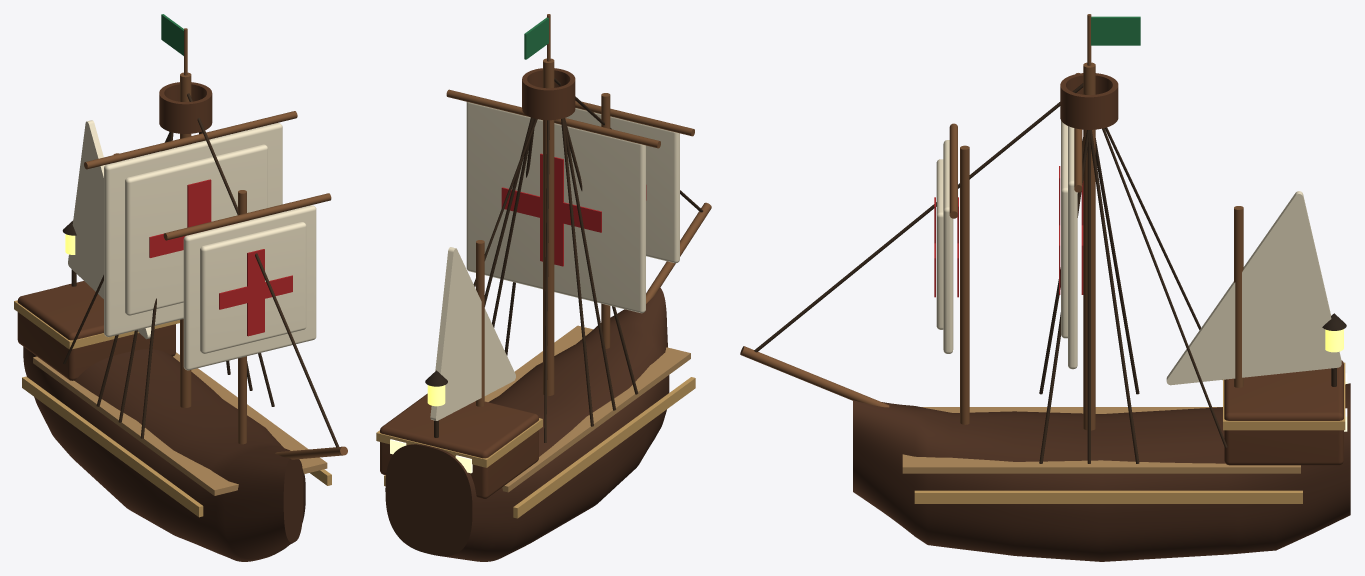
Rendered from caravel.glb.
3 views of the same model, side by side, from view 1: azimuth 30°, elevation 25°; view 2: azimuth 150°, elevation 25°; view 3: azimuth 270°, elevation 25° (orthographic). The views are drawn at different scales.
Visible parts, largest first — view 1: Hull, Belly_Main, Belly_Fore, Sail_Main, Sterncastle, Sail_Fore, Deck, Sail_Lateen, Wale_L, CrowsNest, Yard_Main, Yard_Fore (+11 smaller); view 2: Hull, Sail_Main, Sterncastle, Sail_Lateen, Sail_Fore, Deck, Mast_Main, Wale_L, CrowsNest, CrossH_Main_B, Yard_Main, CrossV_Main_B (+14 smaller); view 3: Hull, Sail_Lateen, Sterncastle, Deck, Wale_R, Mast_Main, CrowsNest, Mast_Fore, Sail_Main, Sail_Fore, Mast_Mizzen, Belly_Main (+12 smaller).
Boxes of the visible parts, x1,y1,x2,y2 form: Hull: (23, 283, 305, 561); Belly_Main: (125, 144, 267, 315); Belly_Fore: (200, 222, 306, 353); Sail_Main: (104, 123, 282, 337); Sterncastle: (17, 281, 175, 380); Sail_Fore: (183, 205, 316, 370); Deck: (33, 352, 327, 495); Sail_Lateen: (68, 120, 151, 339); Wale_L: (22, 376, 203, 517); CrowsNest: (159, 82, 212, 133); Yard_Main: (84, 111, 297, 169); Yard_Fore: (163, 193, 331, 240); Hull: (385, 288, 669, 561); Sail_Main: (466, 102, 645, 313); Sterncastle: (380, 393, 538, 499); Sail_Lateen: (430, 247, 515, 420); Sail_Fore: (565, 108, 679, 263); Deck: (484, 325, 690, 492); Mast_Main: (543, 58, 554, 395); Wale_L: (513, 377, 695, 518); CrowsNest: (522, 68, 575, 120); CrossH_Main_B: (501, 187, 601, 232); Yard_Main: (446, 89, 660, 148); CrossV_Main_B: (540, 153, 563, 266); Hull: (853, 383, 1350, 561); Sail_Lateen: (1166, 191, 1341, 385); Sterncastle: (1224, 360, 1343, 465); Deck: (902, 407, 1300, 473); Wale_R: (914, 490, 1302, 503); Mast_Main: (1083, 62, 1095, 430); CrowsNest: (1060, 73, 1118, 129); Mast_Fore: (960, 145, 969, 424); Sail_Main: (1068, 126, 1077, 369); Sail_Fore: (943, 140, 953, 353); Mast_Mizzen: (1234, 206, 1243, 387); Belly_Main: (1061, 120, 1067, 338).
Size of the model in its own units: 1.92 by 4.25 by 4.41.
